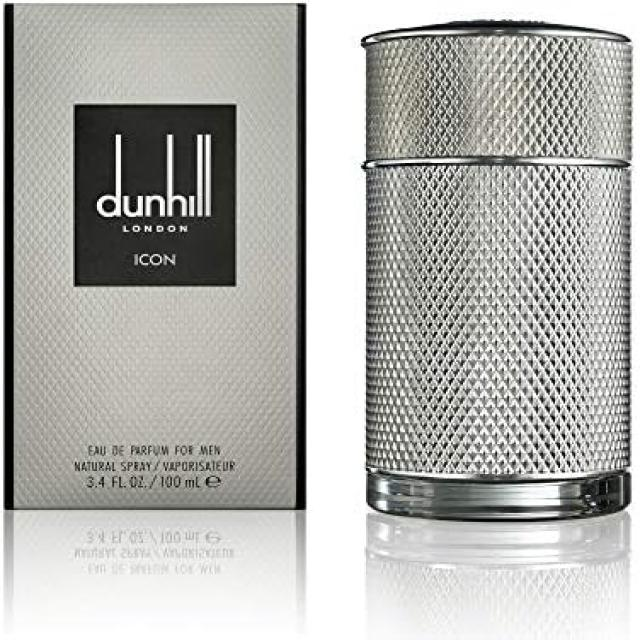dunhill: (2, 0, 315, 518)
